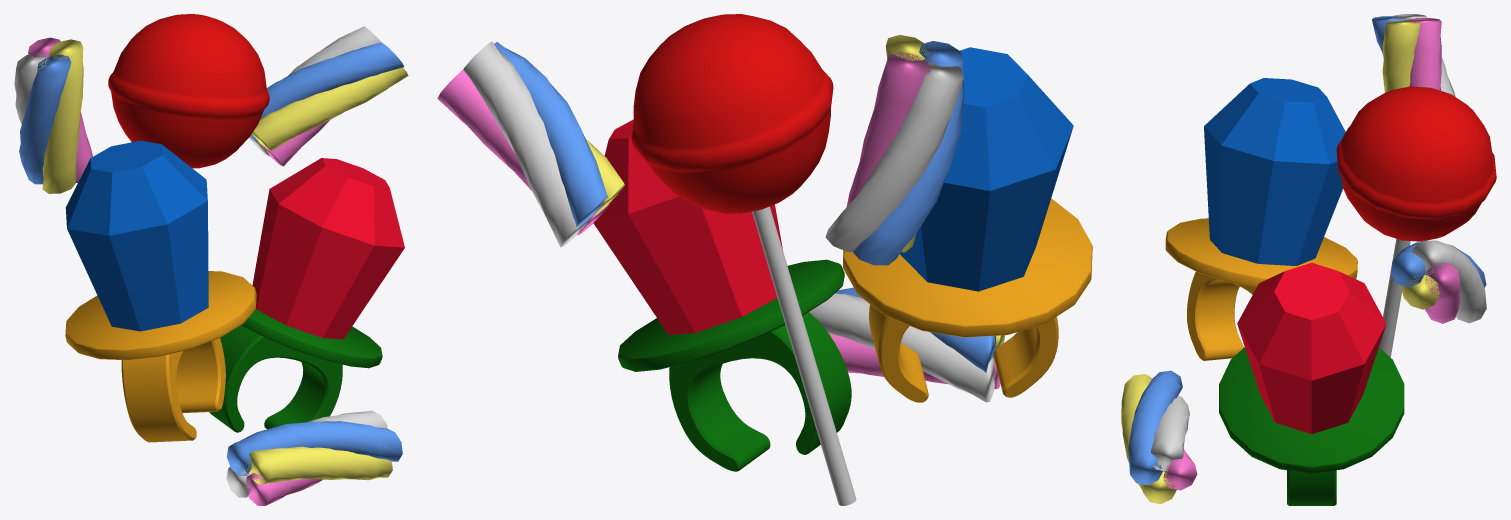
The model's file is dulces de pequeño timmy.FBX.
The picture shows the model from 3 angles, left to right: view 1: azimuth 30°, elevation 25°; view 2: azimuth 150°, elevation 25°; view 3: azimuth 270°, elevation 25°; orthographic projection. The views are drawn at different scales.
Parts seen in each view (by area): view 1: ringpop candy, ringpop candy001, paleta lolipop003, ringpop plasticon, bombom002, bombom001, ringpop plasticon001, bombom; view 2: paleta lolipop003, ringpop candy, ringpop plasticon, ringpop candy001, ringpop plasticon001, bombom, bombom001, bombom002, palito plastico004; view 3: ringpop candy, paleta lolipop003, ringpop candy001, ringpop plasticon001, ringpop plasticon, bombom002, bombom001, bombom, palito plastico004.
Boxes of the visible parts, box(x1,y1,x2,y2) form: ringpop candy: box(65, 140, 208, 331); ringpop candy001: box(252, 158, 404, 339); paleta lolipop003: box(108, 14, 269, 168); ringpop plasticon: box(65, 271, 256, 442); bombom002: box(226, 410, 402, 505); bombom001: box(249, 26, 408, 166); ringpop plasticon001: box(209, 309, 382, 432); bombom: box(14, 37, 92, 193); paleta lolipop003: box(631, 14, 833, 213); ringpop candy: box(900, 47, 1073, 291); ringpop plasticon: box(843, 198, 1092, 402); ringpop candy001: box(593, 119, 782, 334); ringpop plasticon001: box(618, 259, 851, 471); bombom: box(825, 35, 964, 265); bombom001: box(437, 41, 624, 247); bombom002: box(809, 287, 1004, 402); palito plastico004: box(752, 206, 856, 505); ringpop candy: box(1204, 78, 1345, 265); paleta lolipop003: box(1336, 86, 1496, 241); ringpop candy001: box(1237, 262, 1386, 434); ringpop plasticon001: box(1219, 347, 1404, 505); ringpop plasticon: box(1165, 218, 1357, 360); bombom002: box(1121, 370, 1197, 504); bombom001: box(1390, 240, 1486, 323); bombom: box(1372, 14, 1455, 96); palito plastico004: box(1379, 239, 1410, 357).
Bounding box in the file's own units: 9.81 × 9.18 × 7.8.
